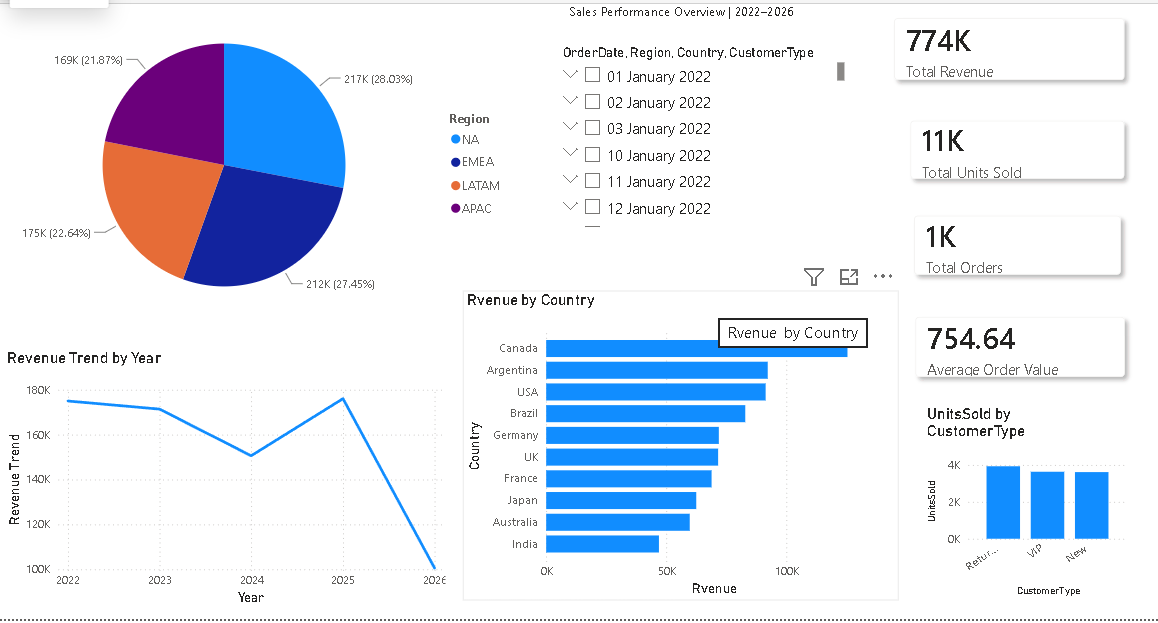

The dashboard page shown, as its layout file describes it:
{"tool":"powerbi","page":{"name":"Page 1","canvas":[1280,720],"ordinal":0},"visuals":[{"type":"pieChart","fields":{"Category":["Retail_Sales_Data.Region"],"Y":["Sum(Retail_Sales_Data.TotalRevenue)"]},"box":[0,0,569.5,411.7],"z":0},{"type":"cardVisual","fields":{"Data":["Sum(Retail_Sales_Data.TotalRevenue)","Sum(Retail_Sales_Data.TotalRevenue)"]},"box":[959.2,31.6,311.5,126.2],"z":1000},{"type":"cardVisual","fields":{"Data":["Sum(Retail_Sales_Data.UnitsSold)"]},"box":[977,144.1,293.7,122.1],"z":2000},{"type":"cardVisual","fields":{"Data":["Retail_Sales_Data.Average Order Value","Retail_Sales_Data.Average Order Value"]},"box":[982.5,359.5,288.2,124.9],"z":3000},{"type":"lineChart","fields":{"Category":["Retail_Sales_Data.OrderDate.Variation.Date Hierarchy.Year"],"Y":["Sum(Retail_Sales_Data.TotalRevenue)"]},"box":[9.6,422.6,491.3,286.8],"z":4000},{"type":"cardVisual","fields":{"Data":["Retail_Sales_Data.Total Orders"]},"box":[981.1,248.4,285.4,123.5],"z":5000},{"type":"clusteredBarChart","fields":{"Y":["Sum(Retail_Sales_Data.TotalRevenue)"],"Category":["Retail_Sales_Data.Country"]},"box":[514.6,359.5,478.9,340.3],"z":6000},{"type":"clusteredColumnChart","fields":{"Category":["Retail_Sales_Data.CustomerType"],"Y":["Sum(Retail_Sales_Data.UnitsSold)"]},"box":[1019.6,484.4,230.5,215.4],"z":7000},{"type":"textbox","box":[554.4,0,400.7,248.4],"z":9000},{"type":"slicer","fields":{"Values":["Retail_Sales_Data.OrderDate","Retail_Sales_Data.Region","Retail_Sales_Data.Country","Retail_Sales_Data.CustomerType"]},"box":[612,85.1,326.6,209.9],"z":10000}]}

Visuals, with their boxes on the page's 1280x720 design canvas (x1, y1, x2, y2). These are canvas units, not pixel positions in the 1158x623 screenshot, which may show the page scaled, cropped or inside an application window:
pieChart - Retail_Sales_Data.Region x Sum(Retail_Sales_Data.TotalRevenue): (0,0,570,412)
cardVisual - Sum(Retail_Sales_Data.TotalRevenue) x Sum(Retail_Sales_Data.TotalRevenue): (959,32,1271,158)
cardVisual - Sum(Retail_Sales_Data.UnitsSold): (977,144,1271,266)
cardVisual - Retail_Sales_Data.Average Order Value x Retail_Sales_Data.Average Order Value: (982,360,1271,484)
lineChart - Retail_Sales_Data.OrderDate.Variation.Date Hierarchy.Year x Sum(Retail_Sales_Data.TotalRevenue): (10,423,501,709)
cardVisual - Retail_Sales_Data.Total Orders: (981,248,1266,372)
clusteredBarChart - Sum(Retail_Sales_Data.TotalRevenue) x Retail_Sales_Data.Country: (515,360,994,700)
clusteredColumnChart - Retail_Sales_Data.CustomerType x Sum(Retail_Sales_Data.UnitsSold): (1020,484,1250,700)
textbox: (554,0,955,248)
slicer - Retail_Sales_Data.OrderDate x Retail_Sales_Data.Region: (612,85,939,295)
